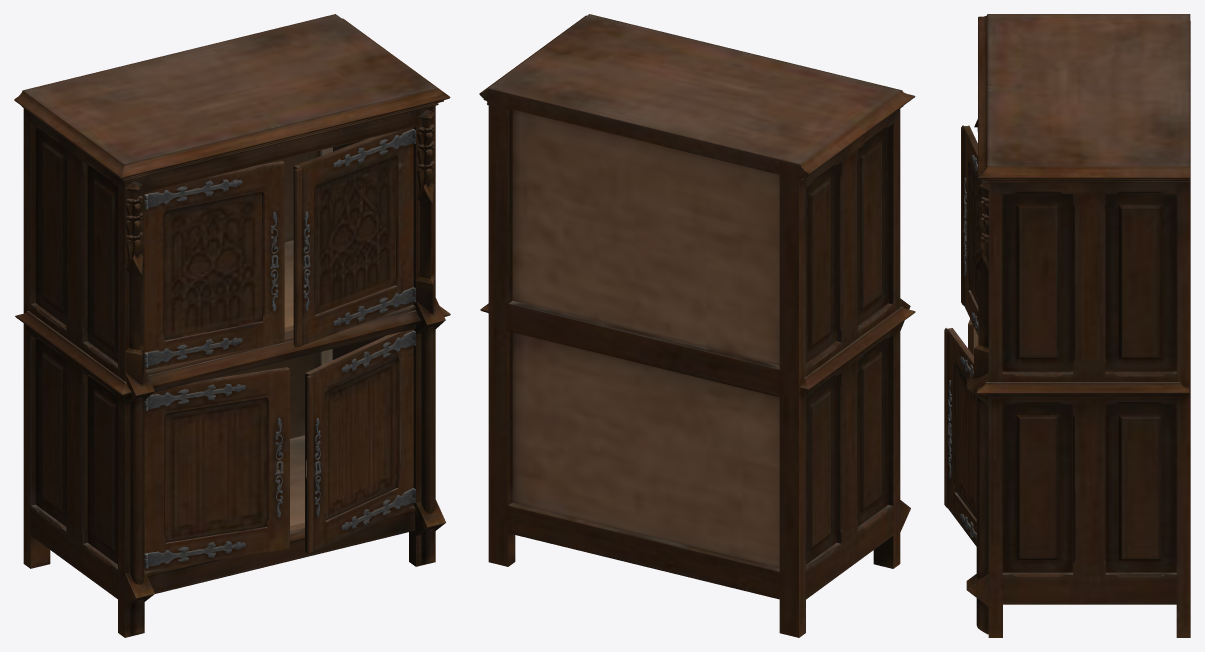
File: GothicCabinet_01.glb
3 views of the same model, side by side, from view 1: azimuth 30°, elevation 25°; view 2: azimuth 150°, elevation 25°; view 3: azimuth 270°, elevation 25° (orthographic).
Visible parts, largest first — view 1: GothicCabinet_01_cabinet; view 2: GothicCabinet_01_cabinet; view 3: GothicCabinet_01_cabinet.
Boxes of the visible parts, x1,y1,x2,y2 form: GothicCabinet_01_cabinet: (14, 14, 450, 637); GothicCabinet_01_cabinet: (479, 14, 915, 637); GothicCabinet_01_cabinet: (944, 14, 1190, 637).
Bounding box in the file's own units: 1.72 × 2.36 × 1.12.
1 material, 1 textured.
